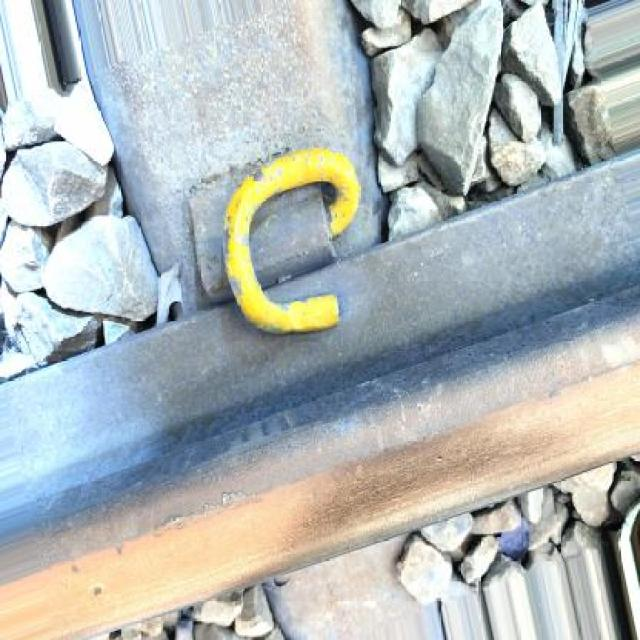non-defective: (14, 151, 640, 640)
